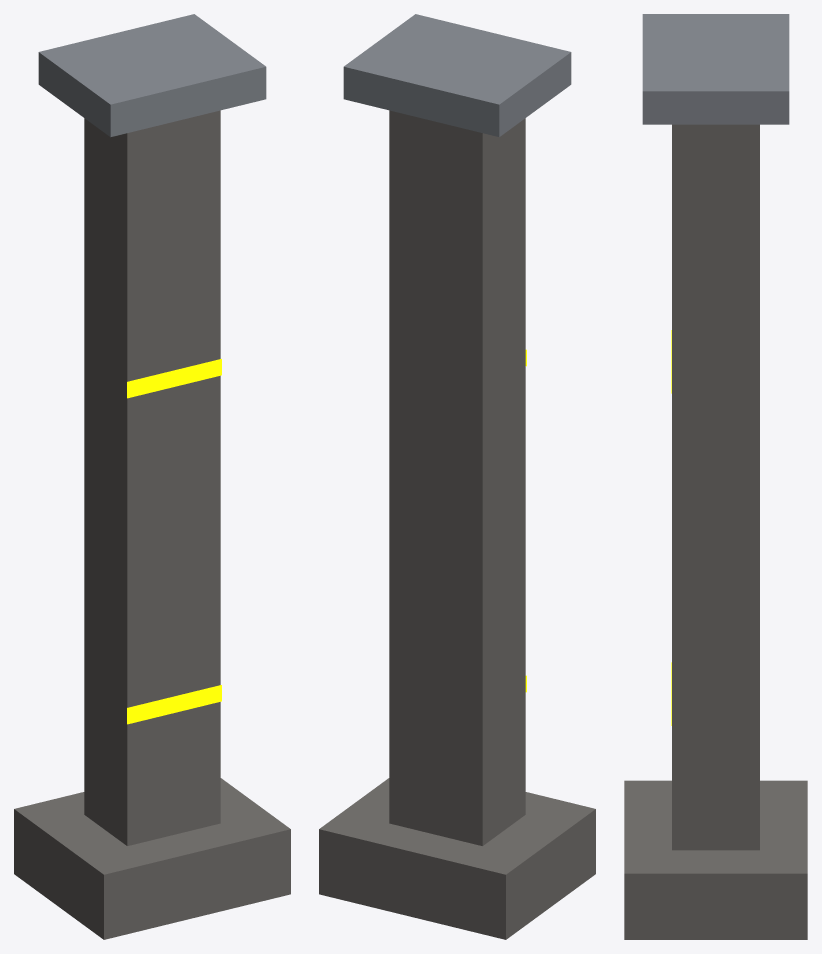
The model's file is ELEV_Highway_Pillar_LG.glb.
The picture shows the model from 3 angles, left to right: view 1: azimuth 30°, elevation 25°; view 2: azimuth 150°, elevation 25°; view 3: azimuth 270°, elevation 25°; orthographic projection.
Visible parts, largest first — view 1: ELEV_Highway_Pillar_LG; view 2: ELEV_Highway_Pillar_LG; view 3: ELEV_Highway_Pillar_LG.
Part boxes in pixels (x1,y1,x2,y2): ELEV_Highway_Pillar_LG: (14, 14, 290, 939); ELEV_Highway_Pillar_LG: (319, 14, 595, 939); ELEV_Highway_Pillar_LG: (624, 14, 807, 939).
Bounding box in the file's own units: 3 × 12.65 × 2.5.
